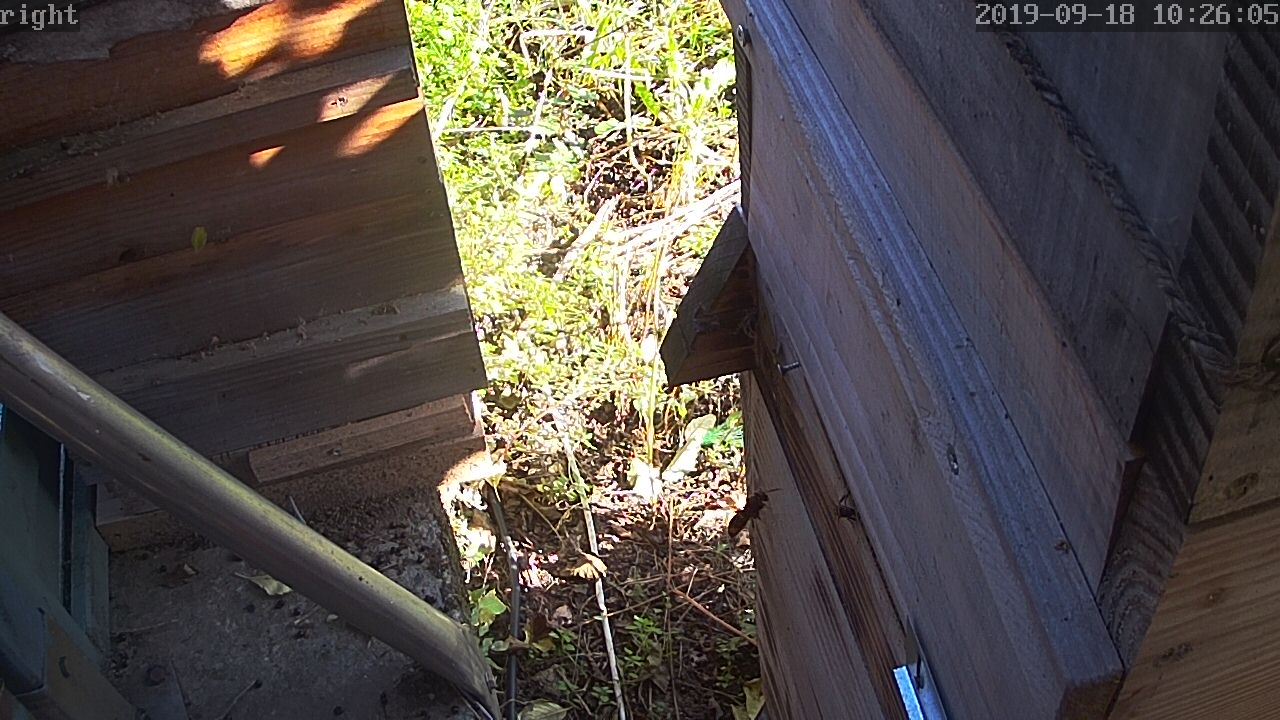bee: (824, 494, 859, 527)
hornet: (721, 484, 781, 546)
